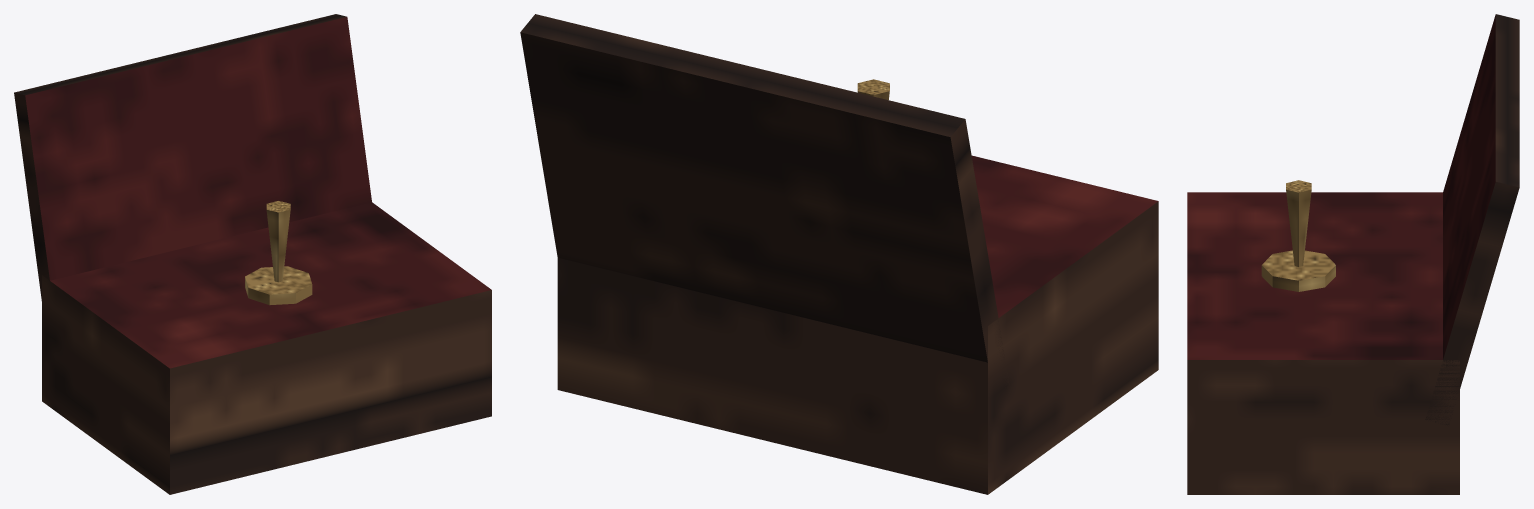
The model's file is Atmos_Music_Box.fbx.
The picture shows the model from 3 angles, left to right: view 1: azimuth 30°, elevation 25°; view 2: azimuth 150°, elevation 25°; view 3: azimuth 270°, elevation 25°; orthographic projection. The views are drawn at different scales.
Visible parts, largest first — view 1: Atmos_Music_Box; view 2: Atmos_Music_Box; view 3: Atmos_Music_Box.
Part boxes in pixels (box(x1,y1,x2,y2)): Atmos_Music_Box: box(14, 14, 491, 494); Atmos_Music_Box: box(520, 14, 1158, 494); Atmos_Music_Box: box(1187, 14, 1519, 494).
Size of the model in its own units: 32 by 27.88 by 26.81.
